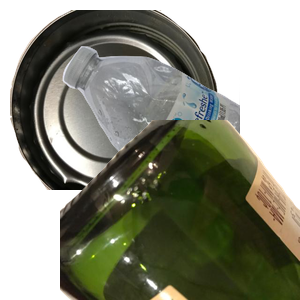glass: (60, 120, 300, 300)
metal: (10, 10, 221, 190)
plastic: (60, 44, 300, 224)
trash: (99, 155, 268, 300)
